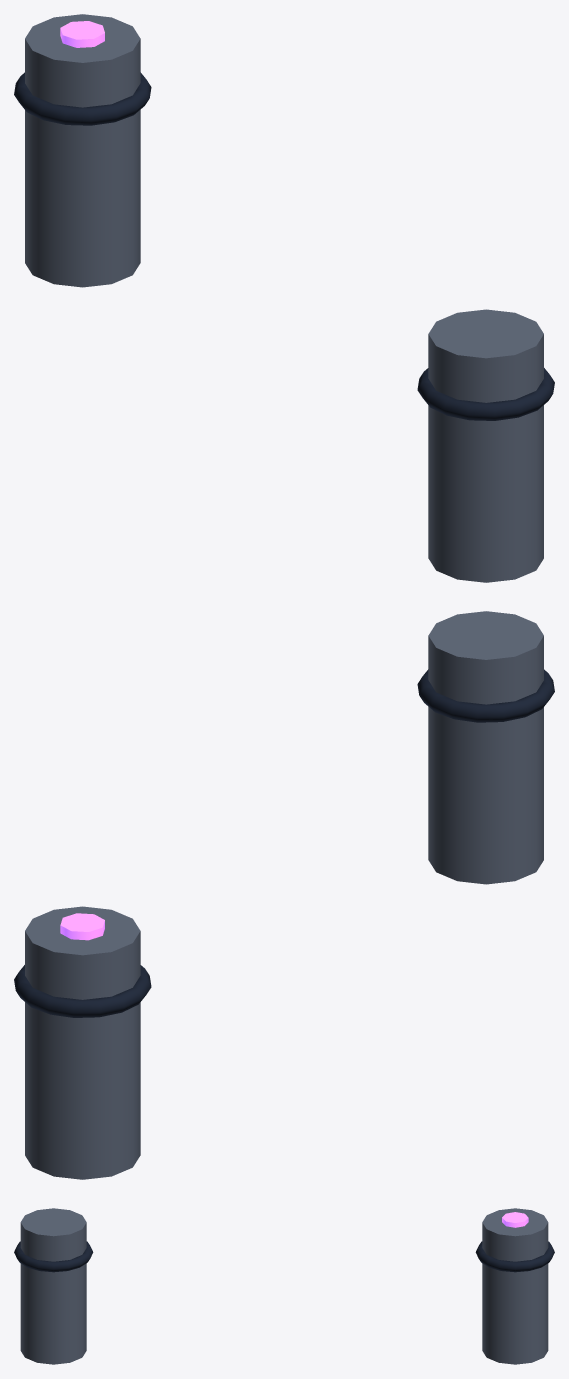
The model's file is tower_singularity_rate_s2.glb.
3 renders of one model, top to bottom at view 1: azimuth 30°, elevation 25°; view 2: azimuth 150°, elevation 25°; view 3: azimuth 270°, elevation 25°, orthographic. The views are drawn at different scales.
Visible parts, largest first — view 1: singularity_stem_cap4.363323129985824, singularity_stem_cap1.9198621771937625, singularity_stem_cap_rib1.9198621771937625, singularity_stem_cap_rib4.363323129985824, singularity_up_rate_l2_stud; view 2: singularity_stem_cap4.363323129985824, singularity_stem_cap1.9198621771937625, singularity_stem_cap_rib4.363323129985824, singularity_stem_cap_rib1.9198621771937625, singularity_up_rate_l2_stud; view 3: singularity_stem_cap4.363323129985824, singularity_stem_cap1.9198621771937625, singularity_stem_cap_rib1.9198621771937625, singularity_stem_cap_rib4.363323129985824, singularity_up_rate_l2_stud.
Boxes of the visible parts, box(x1,y1,x2,y2) form: singularity_stem_cap4.363323129985824: box(428, 309, 543, 582); singularity_stem_cap1.9198621771937625: box(25, 14, 140, 287); singularity_stem_cap_rib1.9198621771937625: box(14, 72, 151, 125); singularity_stem_cap_rib4.363323129985824: box(417, 368, 554, 420); singularity_up_rate_l2_stud: box(60, 21, 104, 47); singularity_stem_cap4.363323129985824: box(428, 611, 543, 884); singularity_stem_cap1.9198621771937625: box(25, 906, 140, 1179); singularity_stem_cap_rib4.363323129985824: box(417, 669, 554, 722); singularity_stem_cap_rib1.9198621771937625: box(14, 965, 151, 1017); singularity_up_rate_l2_stud: box(60, 913, 104, 940); singularity_stem_cap4.363323129985824: box(20, 1208, 86, 1364); singularity_stem_cap1.9198621771937625: box(482, 1208, 548, 1364); singularity_stem_cap_rib1.9198621771937625: box(475, 1241, 554, 1272); singularity_stem_cap_rib4.363323129985824: box(14, 1241, 93, 1272); singularity_up_rate_l2_stud: box(502, 1212, 528, 1227).
Bounding box in the file's own units: 0.168 × 0.311 × 1.15.
